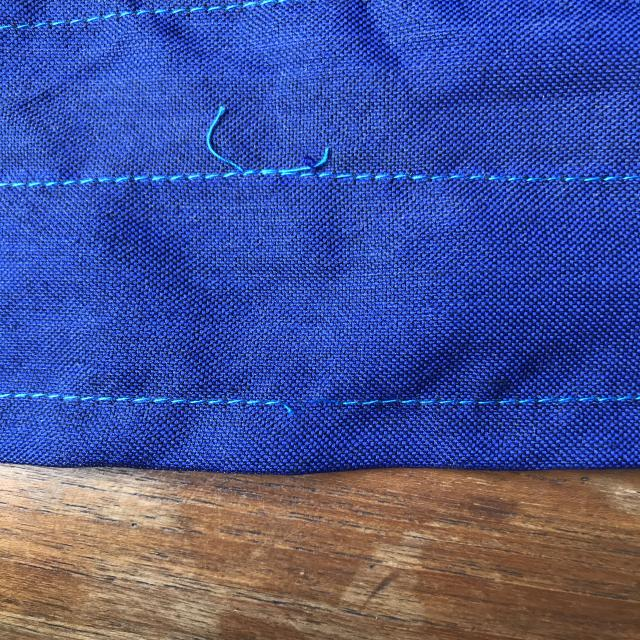broken: (240, 374, 388, 430)
